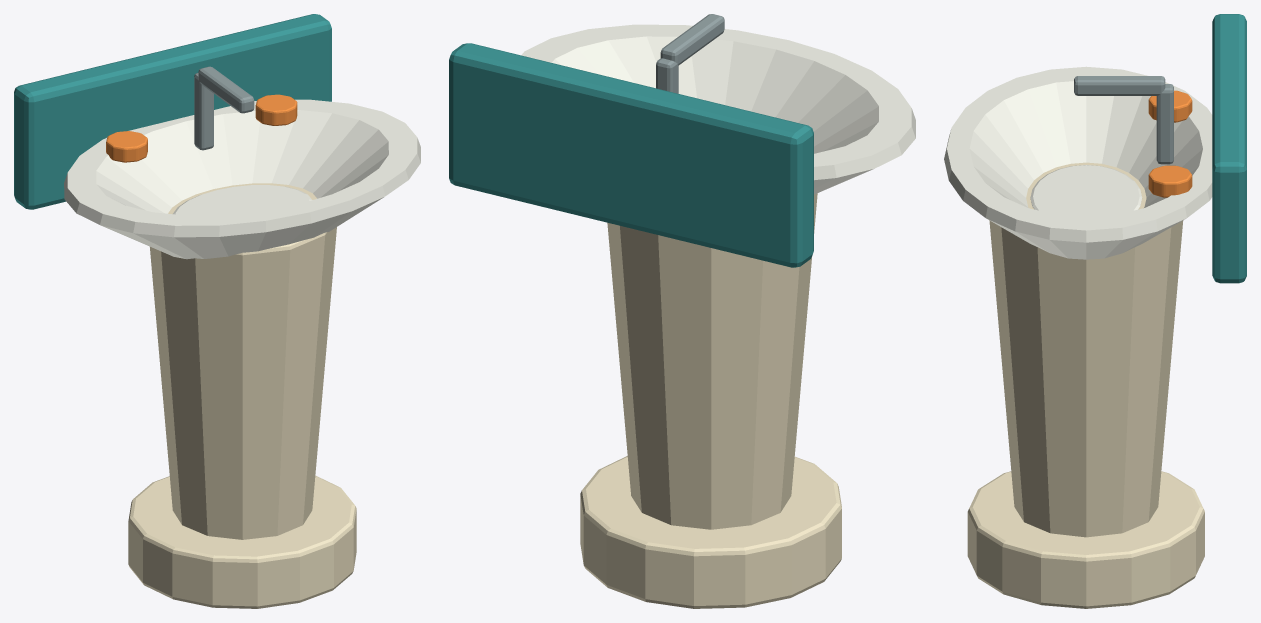
Rendered from S041_pedestal_sink.glb.
The picture shows the model from 3 angles, left to right: view 1: azimuth 30°, elevation 25°; view 2: azimuth 150°, elevation 25°; view 3: azimuth 270°, elevation 25°; orthographic projection. The views are drawn at different scales.
Parts seen in each view (by area): view 1: sink_pedestal, wash_basin, rear_splash, sink_foot, wash_basin_bottom, tap_spout, tap_stem, tap_control.001, tap_control; view 2: rear_splash, sink_pedestal, wash_basin, sink_foot, tap_spout, tap_stem; view 3: sink_pedestal, wash_basin, sink_foot, rear_splash, wash_basin_bottom, tap_spout, tap_stem, tap_control.001, tap_control.
Part boxes in pixels (left/top/right/bottom): sink_pedestal: left=150, top=183, right=336, bottom=539; wash_basin: left=64, top=99, right=420, bottom=259; rear_splash: left=14, top=14, right=331, bottom=209; sink_foot: left=128, top=475, right=356, bottom=608; wash_basin_bottom: left=173, top=185, right=312, bottom=215; tap_spout: left=198, top=66, right=254, bottom=113; tap_stem: left=194, top=73, right=213, bottom=150; tap_control.001: left=255, top=94, right=297, bottom=125; tap_control: left=106, top=131, right=147, bottom=162; rear_splash: left=449, top=43, right=813, bottom=267; sink_pedestal: left=607, top=193, right=817, bottom=529; wash_basin: left=521, top=24, right=915, bottom=194; sink_foot: left=580, top=456, right=841, bottom=608; tap_spout: left=660, top=14, right=724, bottom=65; tap_stem: left=656, top=58, right=678, bottom=93; sink_pedestal: left=989, top=162, right=1183, bottom=537; wash_basin: left=944, top=66, right=1212, bottom=259; sink_foot: left=967, top=471, right=1204, bottom=608; rear_splash: left=1212, top=14, right=1246, bottom=283; wash_basin_bottom: left=1030, top=165, right=1142, bottom=217; tap_spout: left=1074, top=76, right=1165, bottom=95; tap_stem: left=1156, top=84, right=1173, bottom=164; tap_control.001: left=1148, top=165, right=1192, bottom=197; tap_control: left=1148, top=90, right=1192, bottom=122.
Bounding box in the file's own units: 0.8 × 1.08 × 0.613.
